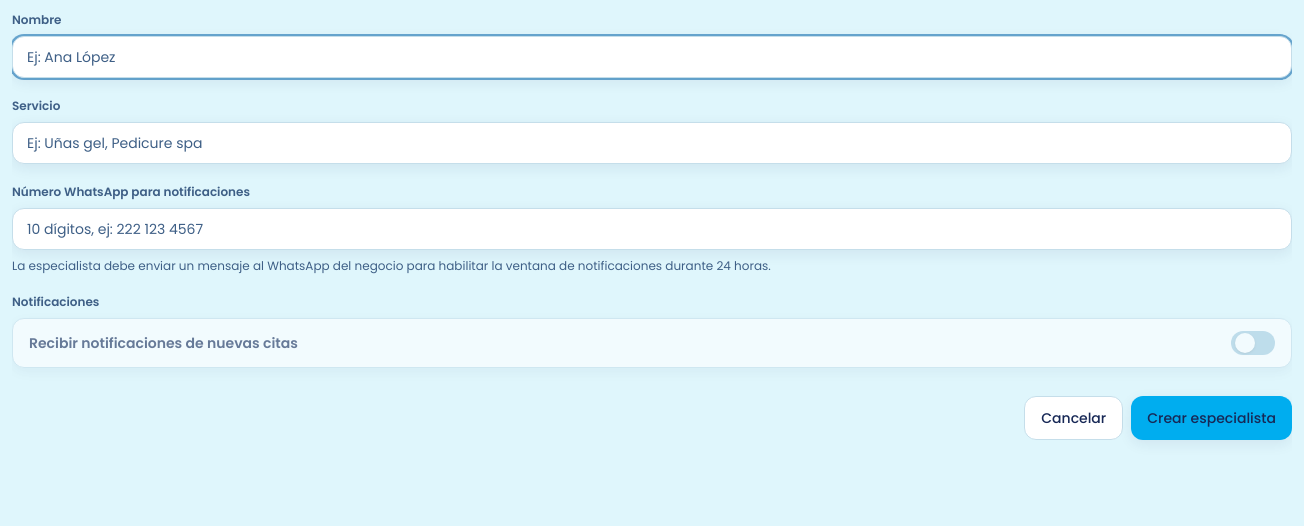
Test case: DoctorForm WhatsApp fields › rejects invalid characters in phone and does not submit
Type "Ana" into the field with placeholder "Ej: Ana López" at (652, 57), box [12, 36, 1292, 78]
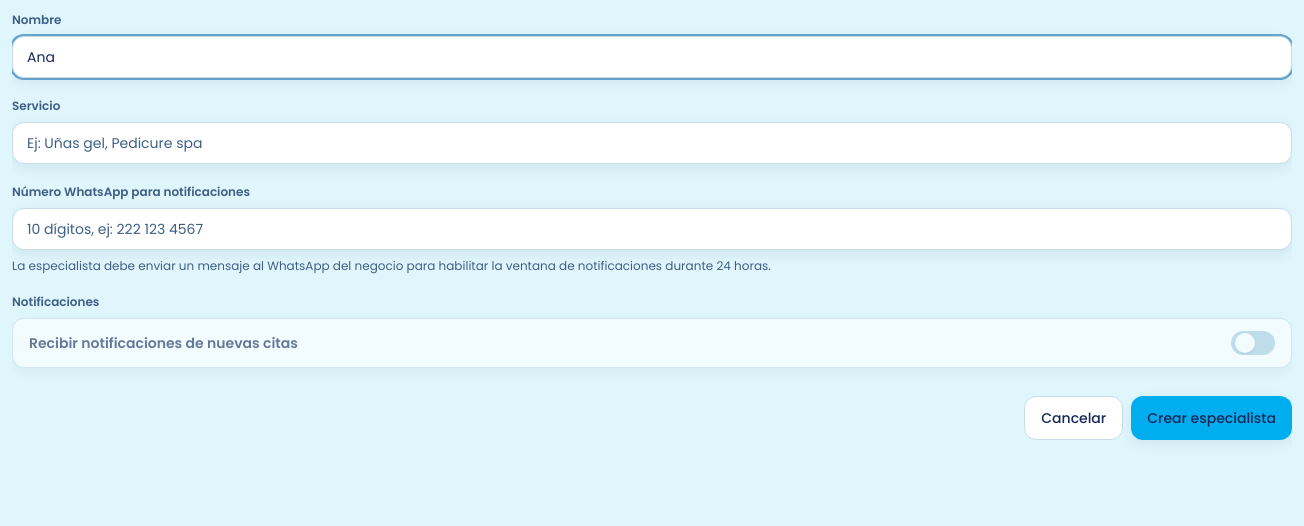
Type "2221234567#" into the field labelled "Número WhatsApp para notificaciones" at (652, 229), box [12, 208, 1292, 250]
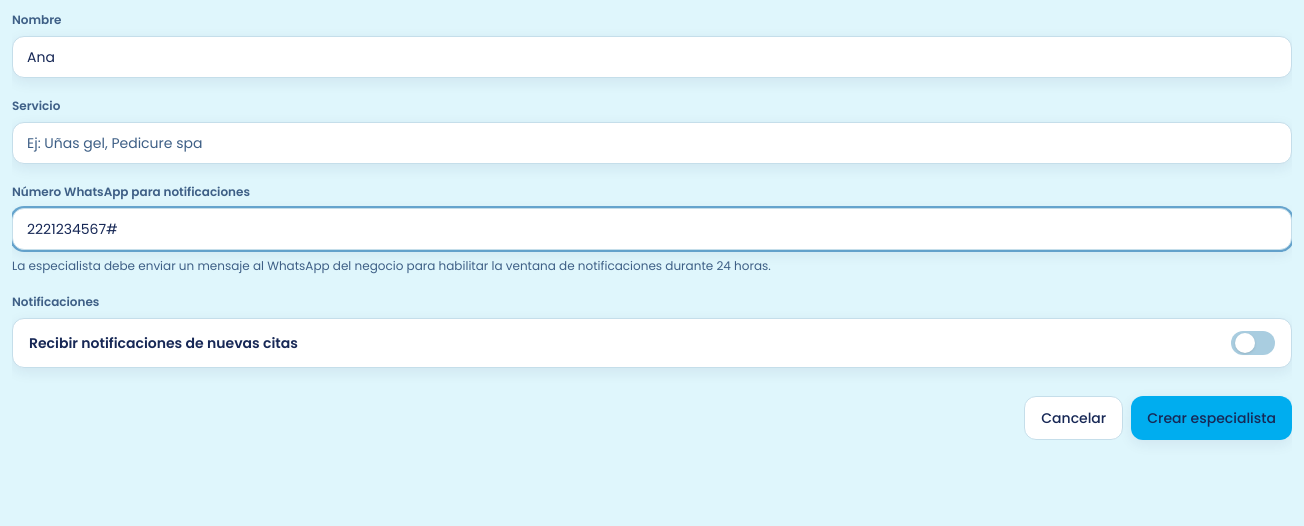
Click the button "Crear especialista" at (1212, 418), box [1131, 396, 1292, 440]
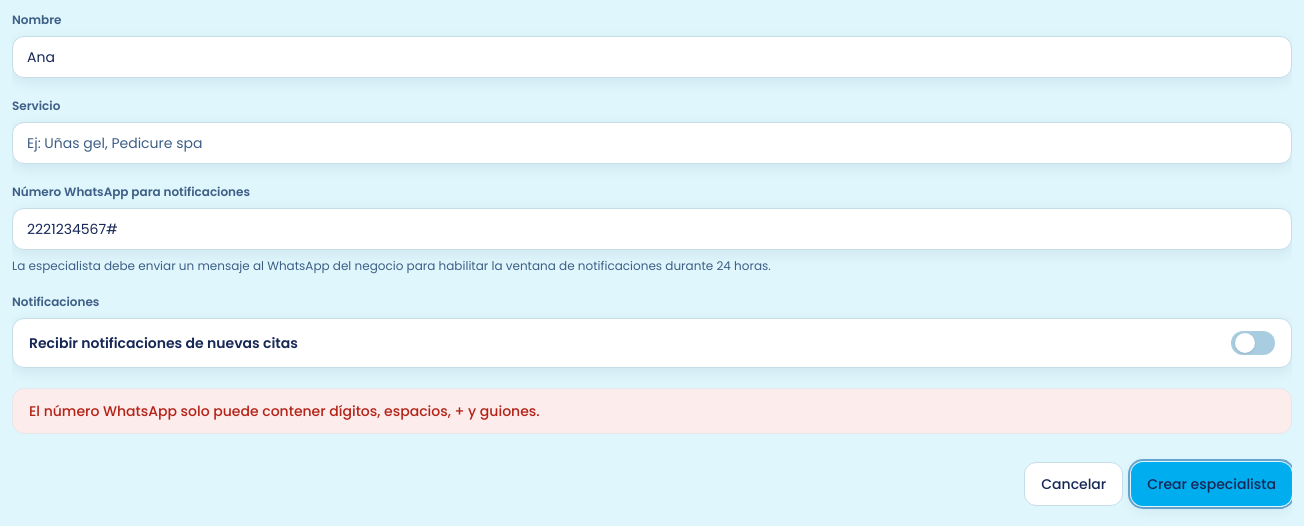
Result: the message shows "dígitos, espacios, + y guiones" at [29, 401, 540, 421]
